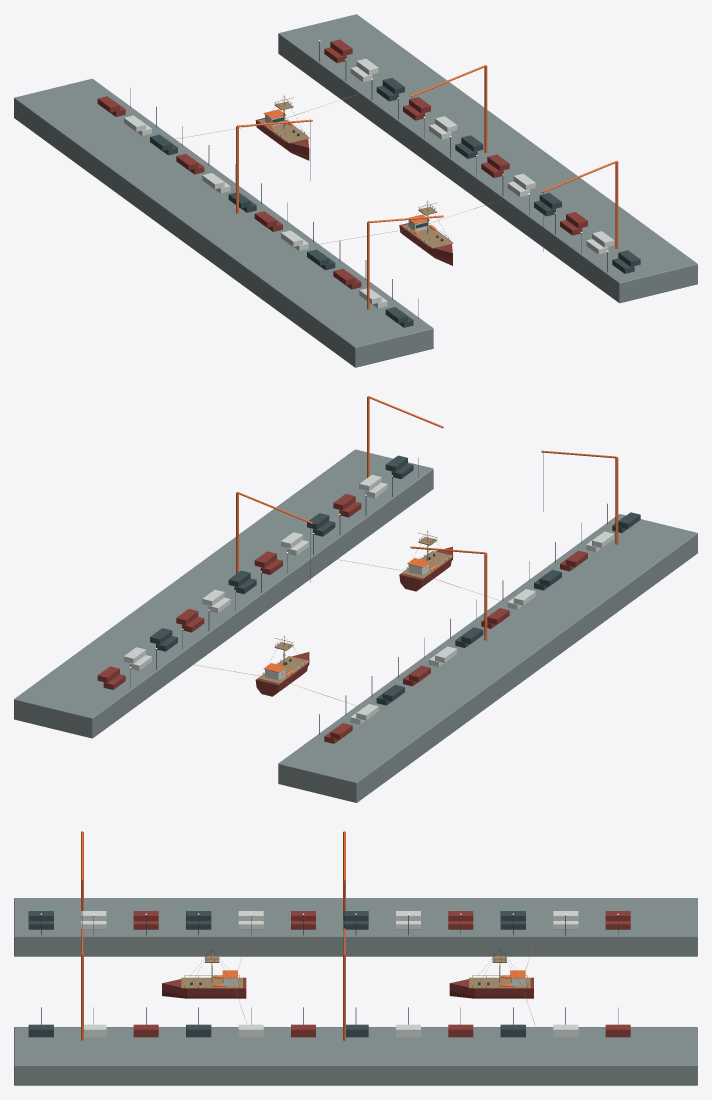
File: harbor-BRQX5FDL.glb
3 renders of one model, top to bottom at view 1: azimuth 30°, elevation 25°; view 2: azimuth 150°, elevation 25°; view 3: azimuth 270°, elevation 25°, orthographic.
Parts seen in each view (by area): view 1: harbor_Harbor_concrete, harbor_Deep_red_hull, harbor_Ship_iron, harbor_Ship_ivory, harbor_Safety_orange, harbor_Oiled_teak; view 2: harbor_Harbor_concrete, harbor_Deep_red_hull, harbor_Ship_iron, harbor_Ship_ivory, harbor_Safety_orange, harbor_Oiled_teak; view 3: harbor_Harbor_concrete, harbor_Deep_red_hull, harbor_Ship_iron, harbor_Ship_ivory, harbor_Safety_orange, harbor_Oiled_teak.
Part boxes in pixels (left/top/right/bottom): harbor_Harbor_concrete: left=14, top=14, right=697, bottom=367; harbor_Deep_red_hull: left=97, top=39, right=587, bottom=289; harbor_Ship_iron: left=130, top=41, right=640, bottom=327; harbor_Ship_ivory: left=124, top=58, right=614, bottom=308; harbor_Safety_orange: left=236, top=65, right=618, bottom=309; harbor_Oiled_teak: left=176, top=94, right=501, bottom=248; harbor_Harbor_concrete: left=14, top=449, right=697, bottom=802; harbor_Deep_red_hull: left=97, top=494, right=587, bottom=743; harbor_Ship_iron: left=130, top=453, right=640, bottom=734; harbor_Ship_ivory: left=124, top=474, right=614, bottom=724; harbor_Safety_orange: left=236, top=396, right=618, bottom=675; harbor_Oiled_teak: left=174, top=530, right=499, bottom=705; harbor_Harbor_concrete: left=14, top=898, right=697, bottom=1085; harbor_Deep_red_hull: left=133, top=911, right=630, bottom=1037; harbor_Ship_iron: left=28, top=882, right=618, bottom=1037; harbor_Ship_ivory: left=81, top=911, right=578, bottom=1037; harbor_Safety_orange: left=81, top=831, right=525, bottom=1040; harbor_Oiled_teak: left=181, top=938, right=535, bottom=1026.
Size of the model in its own units: 174 by 53.44 by 300.
